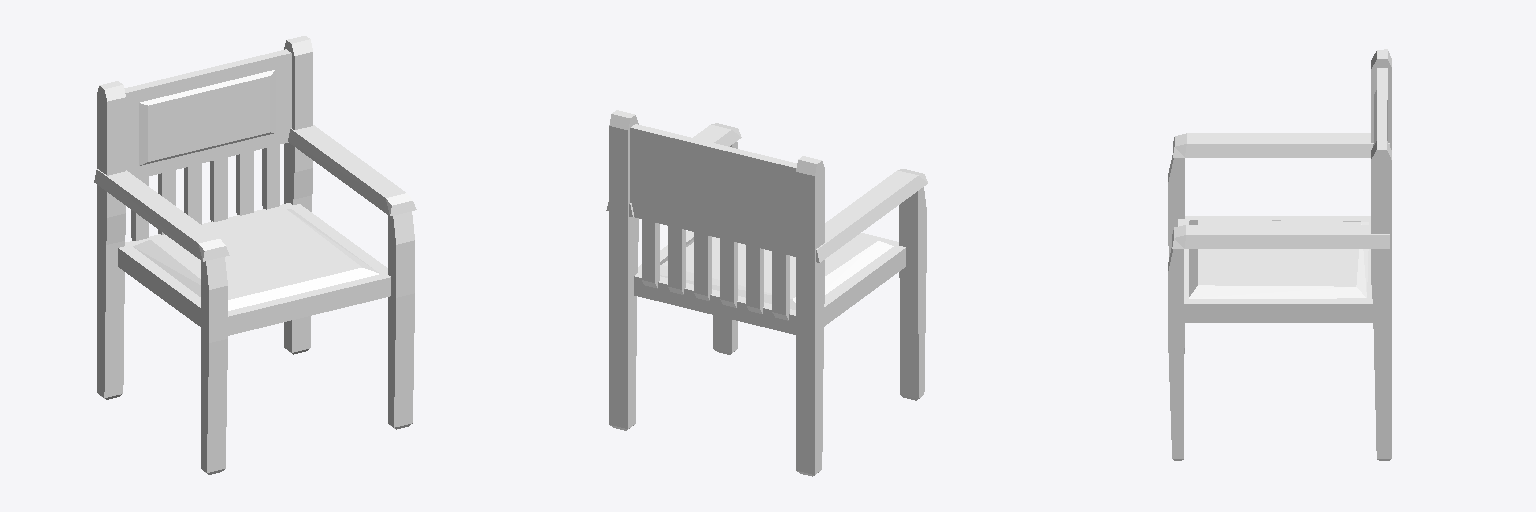
Rendered from chair1.obj.
The picture shows the model from 3 angles: view 1: azimuth 30°, elevation 25°; view 2: azimuth 150°, elevation 25°; view 3: azimuth 270°, elevation 25°; orthographic projection.
Parts seen in each view (by area): view 1: Object.1; view 2: Object.1; view 3: Object.1.
Boxes of the visible parts, <box> form: Object.1: <box>94,36,416,474</box>; Object.1: <box>606,110,927,476</box>; Object.1: <box>1168,49,1391,460</box>.
Bounding box in the file's own units: 9 × 12.58 × 8.2.